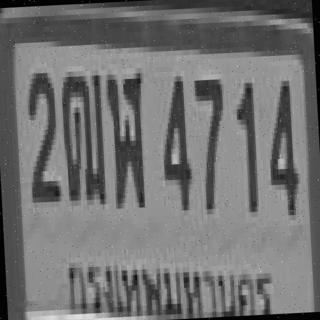A18: (58, 65, 106, 201)
A42: (105, 68, 147, 204)
N01: (233, 78, 257, 207)
N02: (23, 68, 59, 198)
N04: (158, 71, 192, 206), (264, 76, 298, 211)
N07: (192, 74, 226, 210)
P04: (61, 238, 278, 320)
